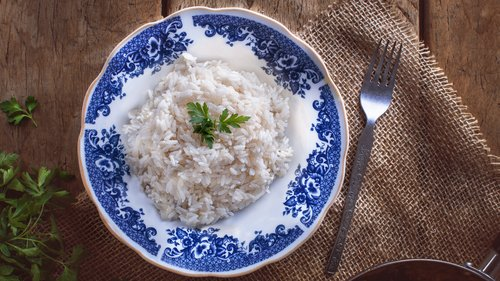plain rice: (128, 68, 287, 211)
